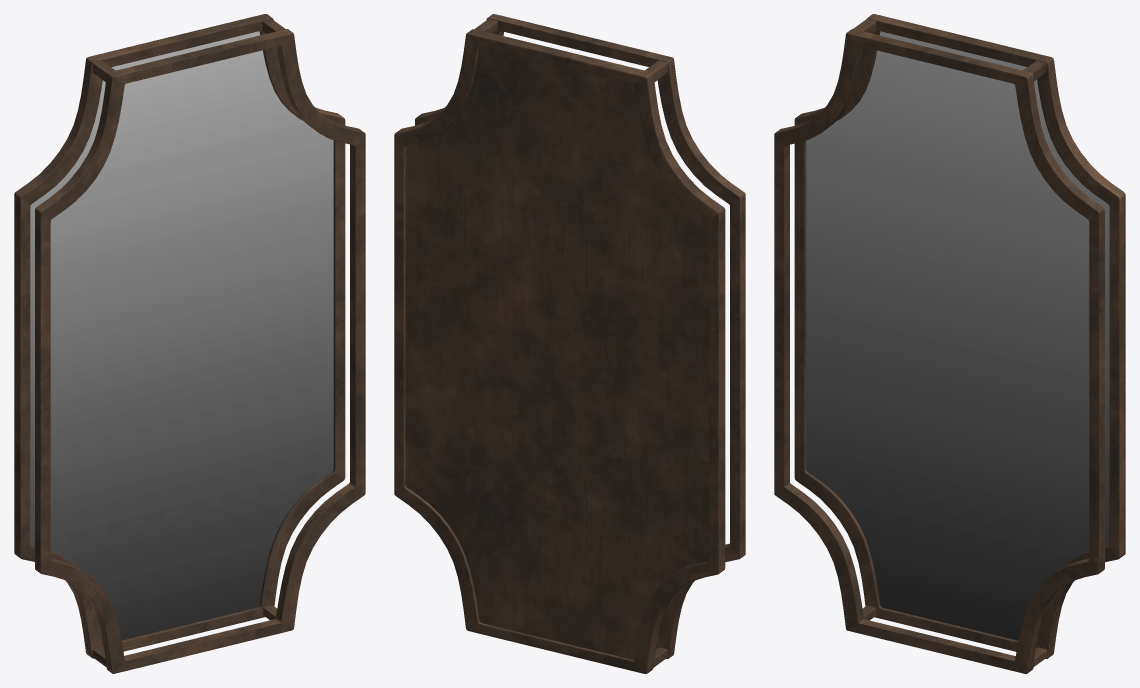
Rendered from abo-B073WH7PZ7.glb.
3 renders of one model, left to right at view 1: azimuth 30°, elevation 25°; view 2: azimuth 150°, elevation 25°; view 3: azimuth 330°, elevation 25°, orthographic.
Size of the model in its own units: 0.462 by 0.811 by 0.066.
1 material, 1 textured.
